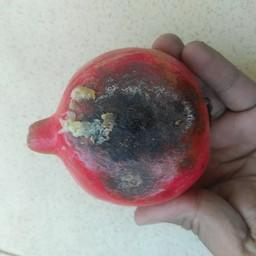Bad_pomegranate: (18, 42, 225, 206)
